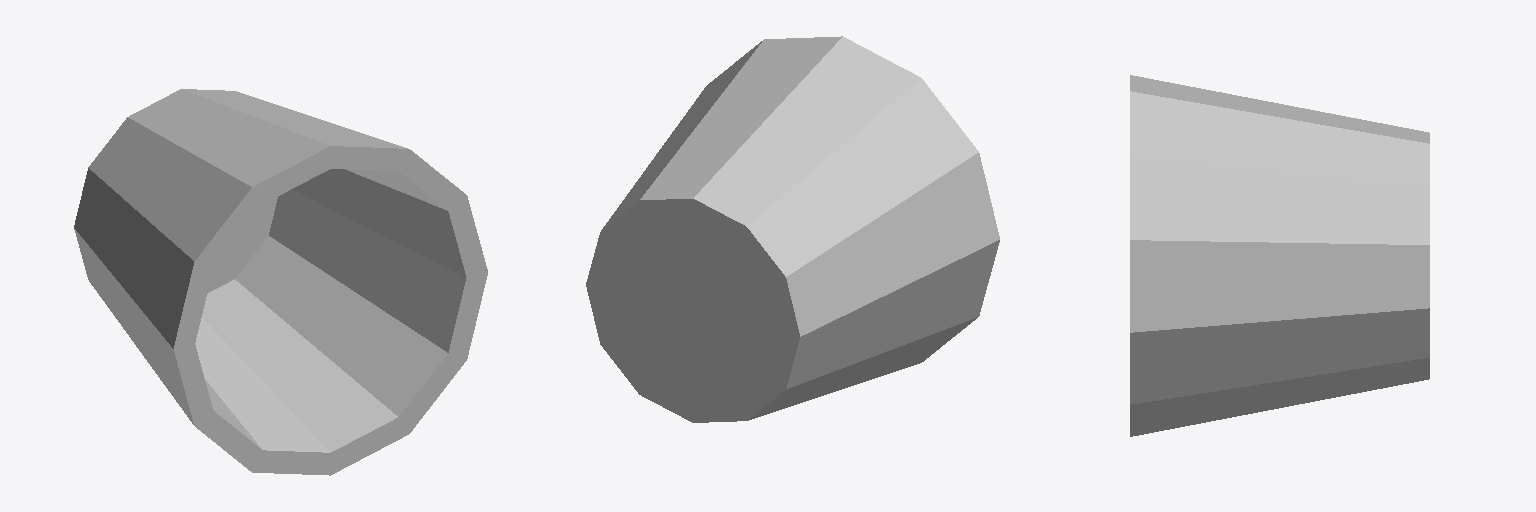
File: bucket.obj
3 renders of one model, left to right at view 1: azimuth 30°, elevation 25°; view 2: azimuth 150°, elevation 25°; view 3: azimuth 270°, elevation 25°, orthographic.
Parts seen in each view (by area): view 1: Cylinder; view 2: Cylinder; view 3: Cylinder.
Part boxes in pixels (left/top/right/bottom): Cylinder: left=74, top=89, right=487, bottom=475; Cylinder: left=586, top=36, right=999, bottom=422; Cylinder: left=1130, top=75, right=1429, bottom=436.
Size of the model in its own units: 0.24 by 0.24 by 0.1977.